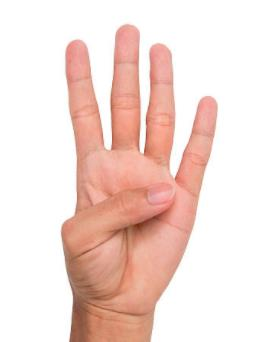right: (51, 22, 220, 306)
